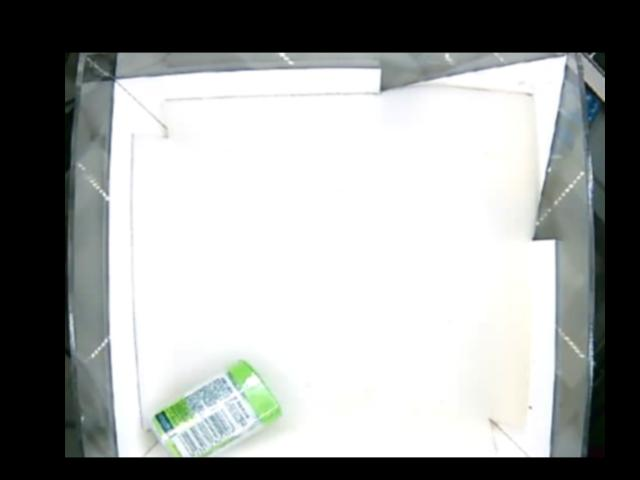Bottle: (149, 358, 281, 455)
